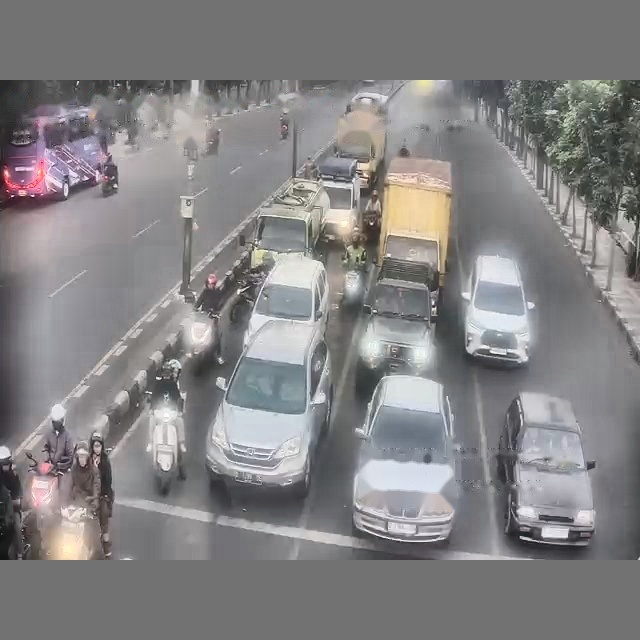Bis: (0, 105, 103, 199)
Mobil: (206, 320, 333, 497), (352, 375, 460, 542), (497, 392, 595, 545), (355, 278, 435, 395), (461, 255, 534, 365), (244, 255, 329, 345), (347, 91, 387, 115)
Motor: (23, 452, 64, 557), (149, 394, 185, 494), (48, 505, 103, 559), (183, 310, 219, 374), (229, 273, 265, 324), (341, 269, 364, 307), (362, 213, 379, 243), (101, 174, 117, 196), (280, 123, 288, 139)
Truk: (377, 157, 451, 321), (238, 178, 329, 267), (334, 110, 386, 190), (318, 156, 360, 243)
